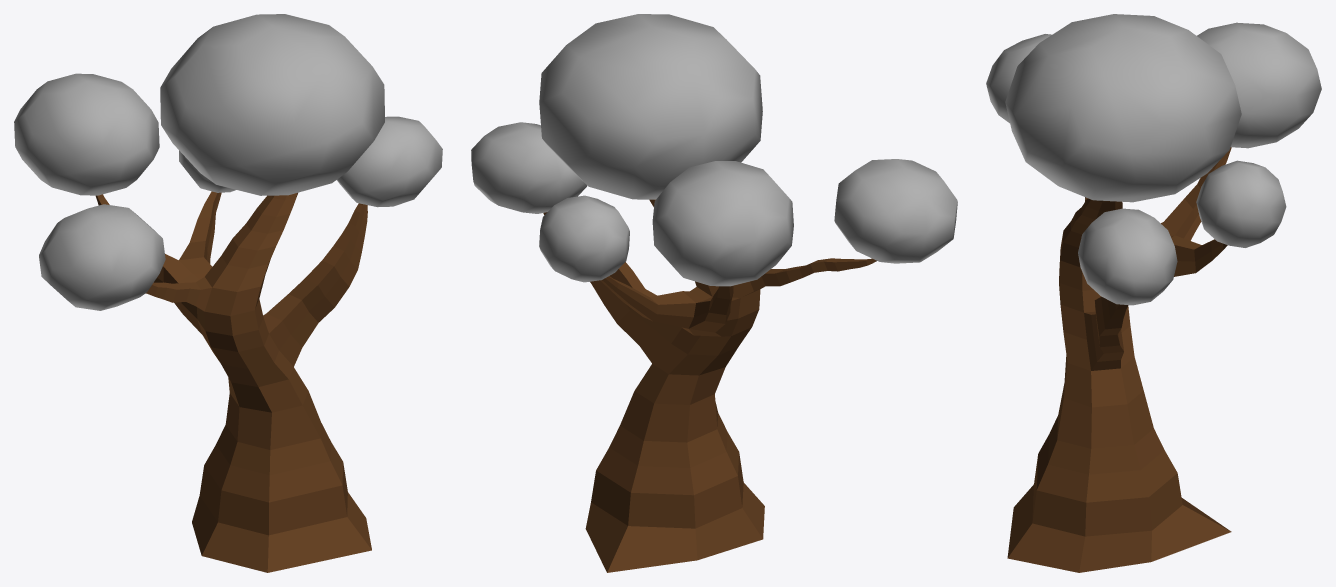
The model's file is tree_1_test.fbx.
3 views of the same model, side by side, from view 1: azimuth 30°, elevation 25°; view 2: azimuth 150°, elevation 25°; view 3: azimuth 270°, elevation 25° (orthographic). The views are drawn at different scales.
Parts seen in each view (by area): view 1: Tree_1; view 2: Tree_1; view 3: Tree_1.
Part boxes in pixels (bbox=[...]): Tree_1: bbox=[14, 14, 442, 572]; Tree_1: bbox=[471, 14, 957, 572]; Tree_1: bbox=[986, 14, 1321, 572].
Bounding box in the file's own units: 50.31 × 55.36 × 33.04.
